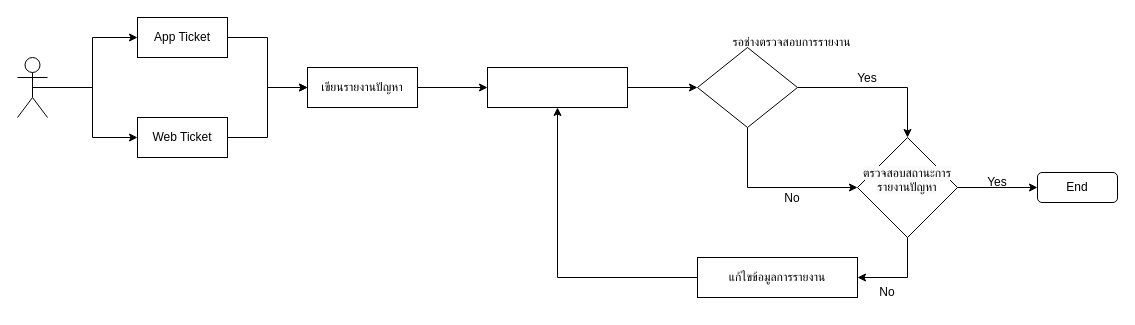
Some shapes in this 1135 by 325 pixel diagram are drawn without their labels. The shapes that lost their labels are listed below. From the top down, each one's box as (x1, y1, x2, y2) in pixels, then its label:
(16, 56, 48, 118): User
(486, 66, 628, 108): แจ้งการรายงาน ไปที่ช่าง (Web)
(696, 46, 798, 128): Approval
